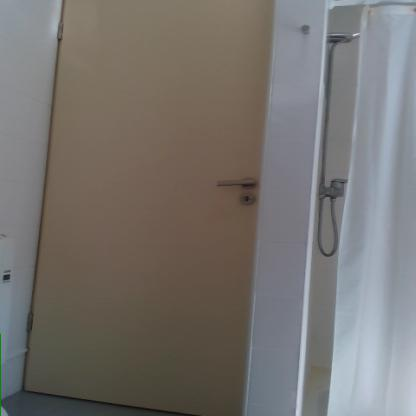door: (58, 0, 249, 415)
hinged: (56, 22, 64, 42), (26, 314, 34, 332)
lever: (214, 179, 258, 190)
